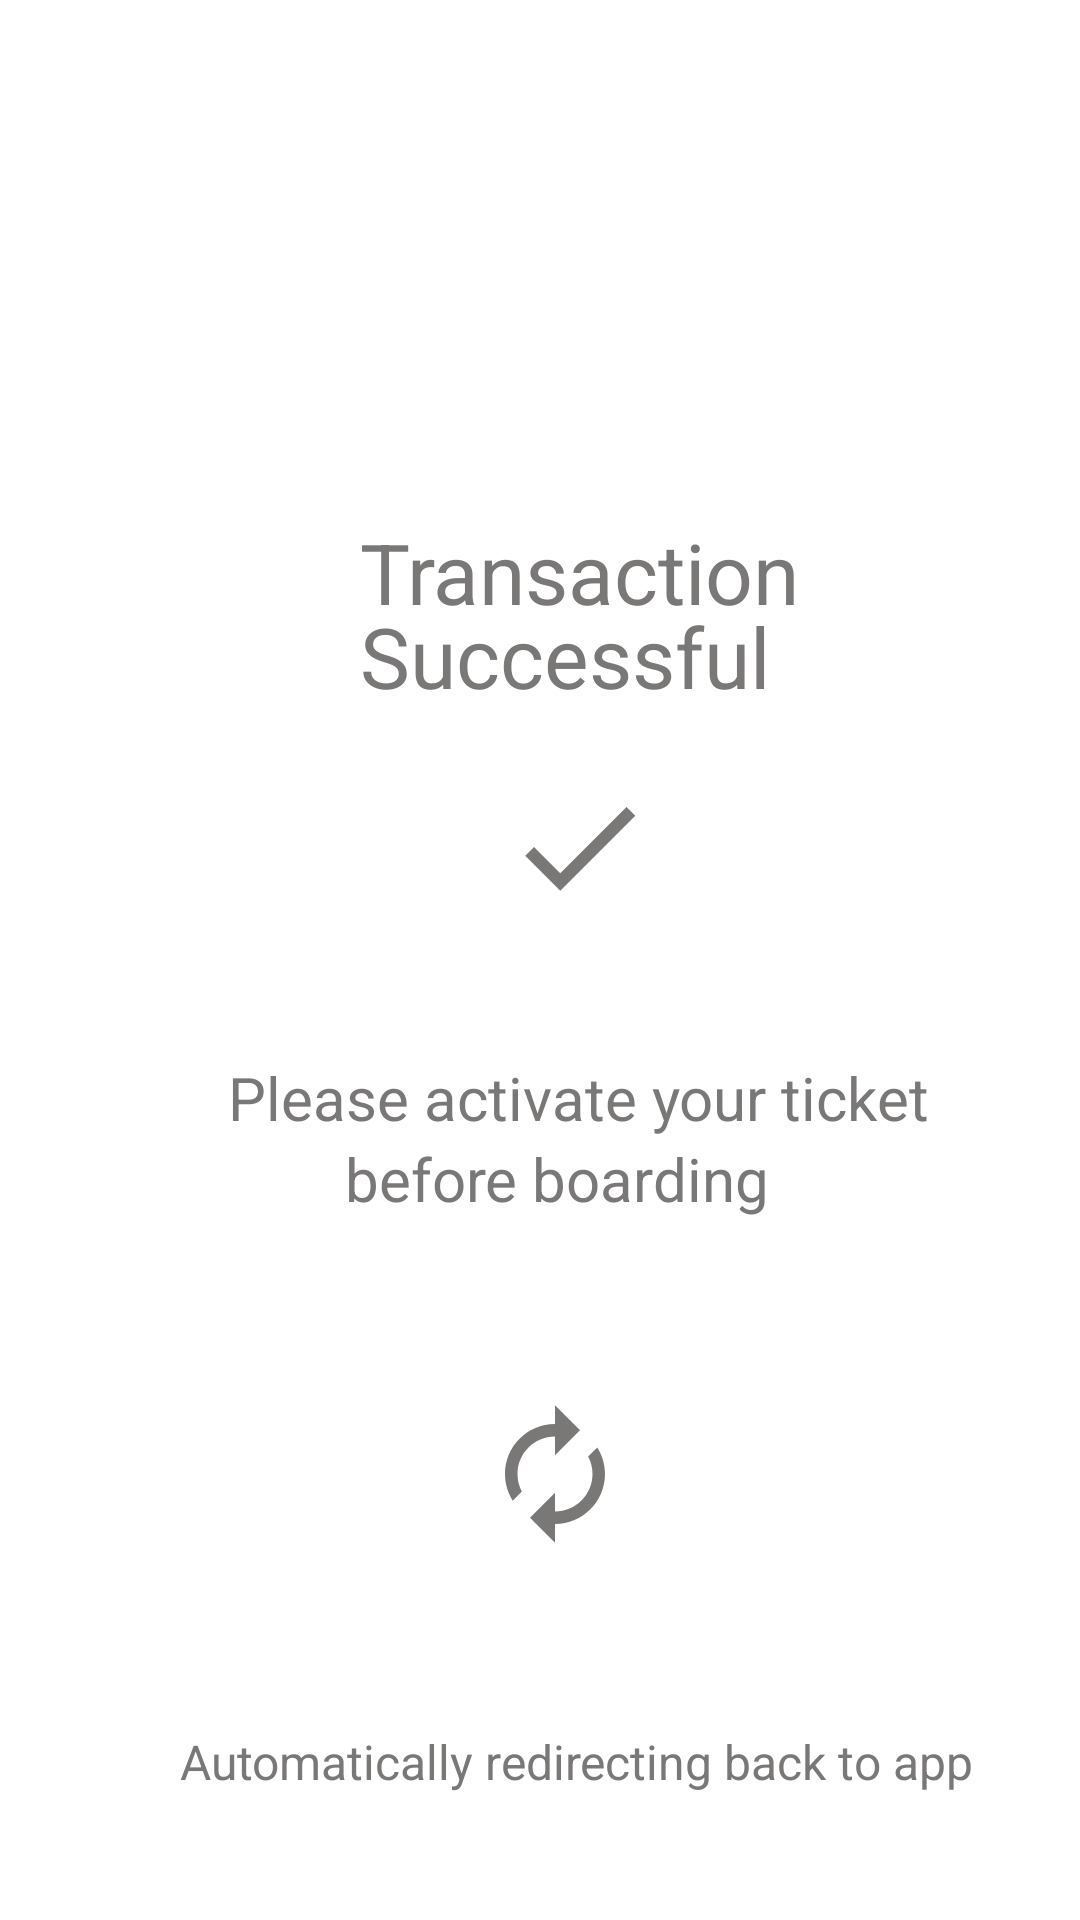

Icon bounding boxes for this 1080 × 1920 phone screenshot, format [left=x1, top=y1, right=x2, bottom=y2]:
reloading clipart: [left=505, top=1405, right=605, bottom=1543]
